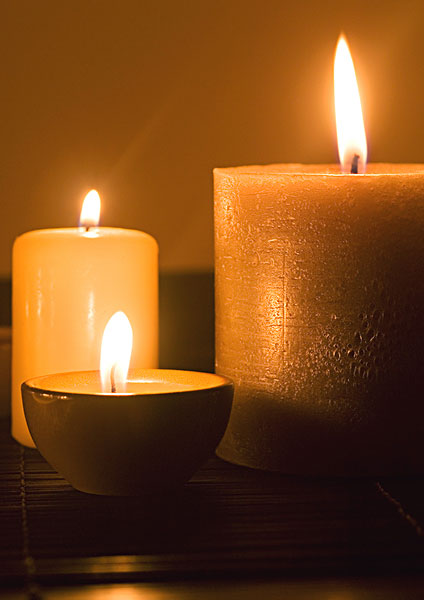Fire: (329, 26, 373, 180), (101, 304, 135, 391), (73, 182, 106, 235)
